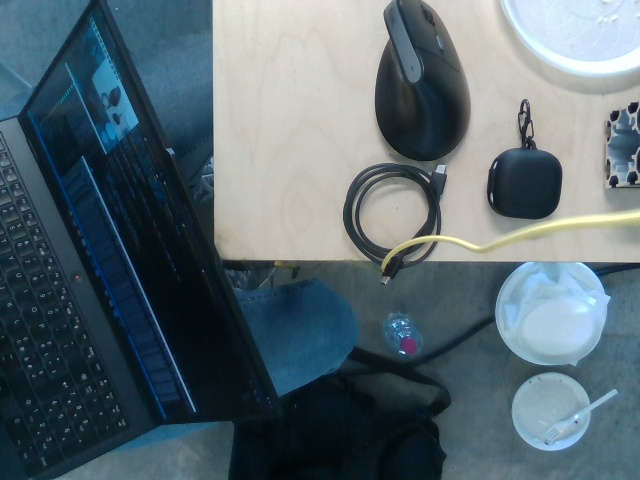cube_hackaton: (484, 139, 565, 223)
